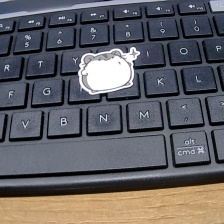mouse: (79, 46, 143, 96)
